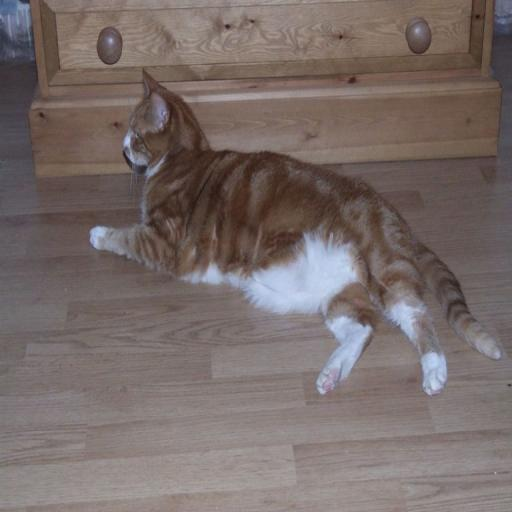cat: (90, 68, 504, 396)
